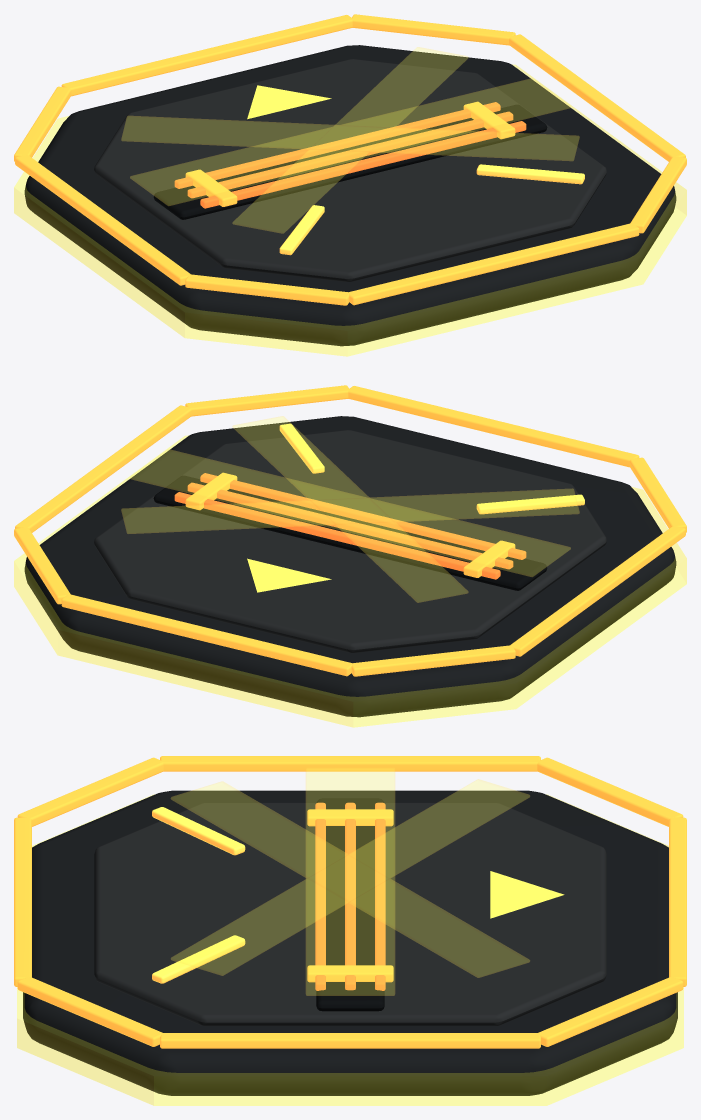
The model's file is SciFiFloorTrap.fbx.
The picture shows the model from 3 angles, top to bottom: view 1: azimuth 30°, elevation 25°; view 2: azimuth 150°, elevation 25°; view 3: azimuth 270°, elevation 25°; orthographic projection. The views are drawn at different scales.
Visible parts, largest first — view 1: TrapBase_DarkInsetTopPlate, TrapBase_BlackGunmetal, LocatorMarkerProxy, DamageFlashEmitter_HiddenPlane_CentralCutWide, DamageFlashEmitter_HiddenPlane_DiagonalCutB, DamageFlashEmitter_HiddenPlane_DiagonalCutA, TrapBase_CentralBlackCutSlotInset, OuterWarningFrame_RedOrangeEmissive_02, OuterWarningFrame_RedOrangeEmissive_06, OuterWarningFrame_RedOrangeEmissive_08, OuterWarningFrame_RedOrangeEmissive_04, CentralEnergySlits_RedOrangeEmissive_01 (+11 smaller); view 2: TrapBase_DarkInsetTopPlate, TrapBase_BlackGunmetal, LocatorMarkerProxy, DamageFlashEmitter_HiddenPlane_CentralCutWide, DamageFlashEmitter_HiddenPlane_DiagonalCutB, DamageFlashEmitter_HiddenPlane_DiagonalCutA, TrapBase_CentralBlackCutSlotInset, OuterWarningFrame_RedOrangeEmissive_06, OuterWarningFrame_RedOrangeEmissive_02, OuterWarningFrame_RedOrangeEmissive_08, OuterWarningFrame_RedOrangeEmissive_04, CentralEnergySlits_RedOrangeEmissive_03 (+11 smaller); view 3: TrapBase_DarkInsetTopPlate, TrapBase_BlackGunmetal, LocatorMarkerProxy, DamageFlashEmitter_HiddenPlane_CentralCutWide, DamageFlashEmitter_HiddenPlane_DiagonalCutB, DamageFlashEmitter_HiddenPlane_DiagonalCutA, TrapBase_CentralBlackCutSlotInset, OuterWarningFrame_RedOrangeEmissive_04, OuterWarningFrame_RedOrangeEmissive_08, OuterWarningFrame_RedOrangeEmissive_02, OuterWarningFrame_RedOrangeEmissive_06, OuterWarningFrame_RedOrangeEmissive_03 (+11 smaller).
Boxes of the visible parts, x1,y1,x2,y2 form: TrapBase_DarkInsetTopPlate: (94,59,606,281); TrapBase_BlackGunmetal: (24,45,676,346); LocatorMarkerProxy: (14,64,686,356); DamageFlashEmitter_HiddenPlane_CentralCutWide: (130,78,570,205); DamageFlashEmitter_HiddenPlane_DiagonalCutB: (121,116,579,160); DamageFlashEmitter_HiddenPlane_DiagonalCutA: (233,47,468,233); TrapBase_CentralBlackCutSlotInset: (153,104,547,219); OuterWarningFrame_RedOrangeEmissive_02: (348,223,639,305); OuterWarningFrame_RedOrangeEmissive_06: (61,15,352,96); OuterWarningFrame_RedOrangeEmissive_08: (15,155,190,285); OuterWarningFrame_RedOrangeEmissive_04: (509,34,685,161); CentralEnergySlits_RedOrangeEmissive_01: (200,121,526,208); TrapBase_DarkInsetTopPlate: (94,430,606,652); TrapBase_BlackGunmetal: (24,416,676,717); LocatorMarkerProxy: (14,435,686,727); DamageFlashEmitter_HiddenPlane_CentralCutWide: (130,449,570,576); DamageFlashEmitter_HiddenPlane_DiagonalCutB: (232,416,467,602); DamageFlashEmitter_HiddenPlane_DiagonalCutA: (121,489,579,533); TrapBase_CentralBlackCutSlotInset: (153,475,547,590); OuterWarningFrame_RedOrangeEmissive_06: (61,594,352,676); OuterWarningFrame_RedOrangeEmissive_02: (348,386,639,467); OuterWarningFrame_RedOrangeEmissive_08: (510,526,685,656); OuterWarningFrame_RedOrangeEmissive_04: (15,405,191,532); CentralEnergySlits_RedOrangeEmissive_03: (174,492,500,579); TrapBase_DarkInsetTopPlate: (94,802,606,1026); TrapBase_BlackGunmetal: (23,790,677,1095); LocatorMarkerProxy: (17,794,683,1105); DamageFlashEmitter_HiddenPlane_CentralCutWide: (306,768,394,995); DamageFlashEmitter_HiddenPlane_DiagonalCutB: (171,779,529,975); DamageFlashEmitter_HiddenPlane_DiagonalCutA: (171,781,529,977); TrapBase_CentralBlackCutSlotInset: (316,798,384,1011); OuterWarningFrame_RedOrangeEmissive_04: (160,1033,540,1048); OuterWarningFrame_RedOrangeEmissive_08: (160,756,540,771); OuterWarningFrame_RedOrangeEmissive_02: (14,817,31,986); OuterWarningFrame_RedOrangeEmissive_06: (669,817,686,986); OuterWarningFrame_RedOrangeEmissive_03: (17,977,162,1046).
Bounding box in the file's own units: 1.13 × 0.165 × 1.13.
